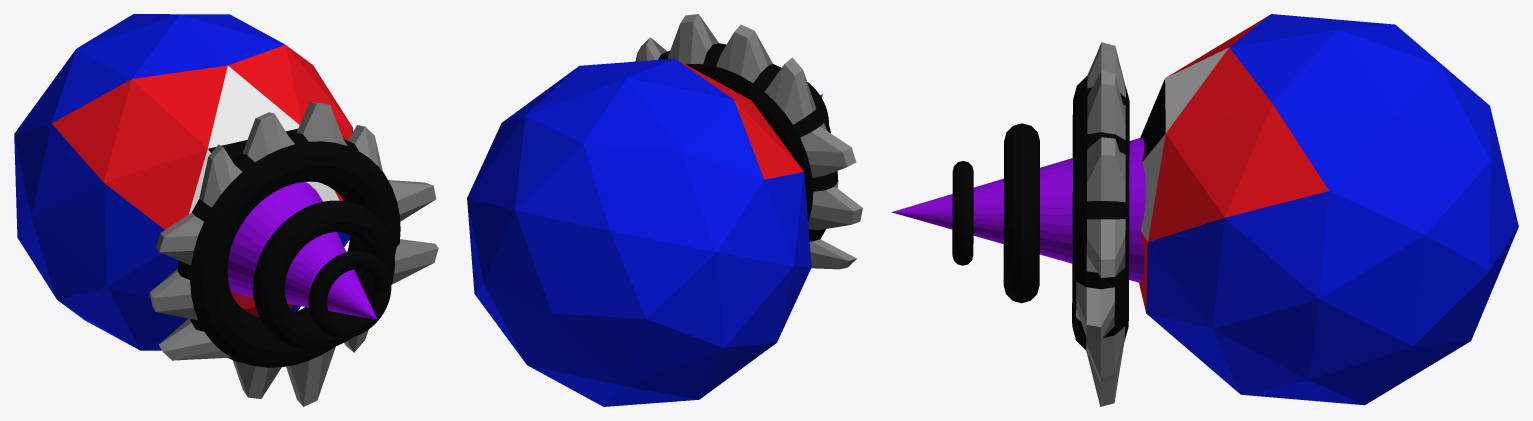
Rendered from turret2.fbx.
3 views of the same model, side by side, from view 1: azimuth 30°, elevation 25°; view 2: azimuth 150°, elevation 25°; view 3: azimuth 270°, elevation 25° (orthographic). The views are drawn at different scales.
Visible parts, largest first — view 1: Icosphere.001, Icosphere.002, Torus.003, Torus, Torus.001, Cone, Icosphere.003, Torus.002; view 2: Icosphere.001, Torus, Torus.003, Icosphere.002; view 3: Icosphere.001, Icosphere.002, Torus, Cone, Torus.003, Torus.001, Icosphere.003, Torus.002, Icosphere.
Part boxes in pixels (x1,y1,x2,y2): Icosphere.001: (14, 14, 352, 350); Icosphere.002: (52, 45, 352, 317); Torus.003: (177, 132, 400, 367); Torus: (149, 102, 438, 406); Torus.001: (253, 200, 394, 350); Cone: (227, 182, 377, 319); Icosphere.003: (189, 66, 339, 213); Torus.002: (308, 250, 391, 338); Icosphere.001: (467, 58, 811, 406); Torus: (635, 14, 862, 269); Torus.003: (658, 43, 838, 241); Icosphere.002: (677, 60, 803, 179); Icosphere.001: (1146, 14, 1518, 405); Icosphere.002: (1139, 15, 1328, 312); Torus: (1076, 42, 1125, 406); Cone: (891, 137, 1145, 282); Torus.003: (1072, 76, 1129, 350); Torus.001: (1003, 123, 1039, 303); Icosphere.003: (1141, 48, 1228, 241); Torus.002: (952, 161, 973, 265); Icosphere: (1140, 79, 1165, 161).
Bounding box in the file's own units: 31.58 × 31.32 × 48.97.
